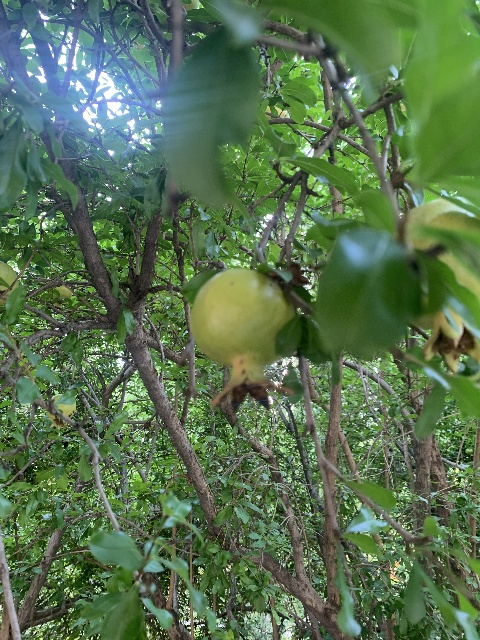mid-growth: (186, 269, 298, 413), (46, 394, 76, 430)
